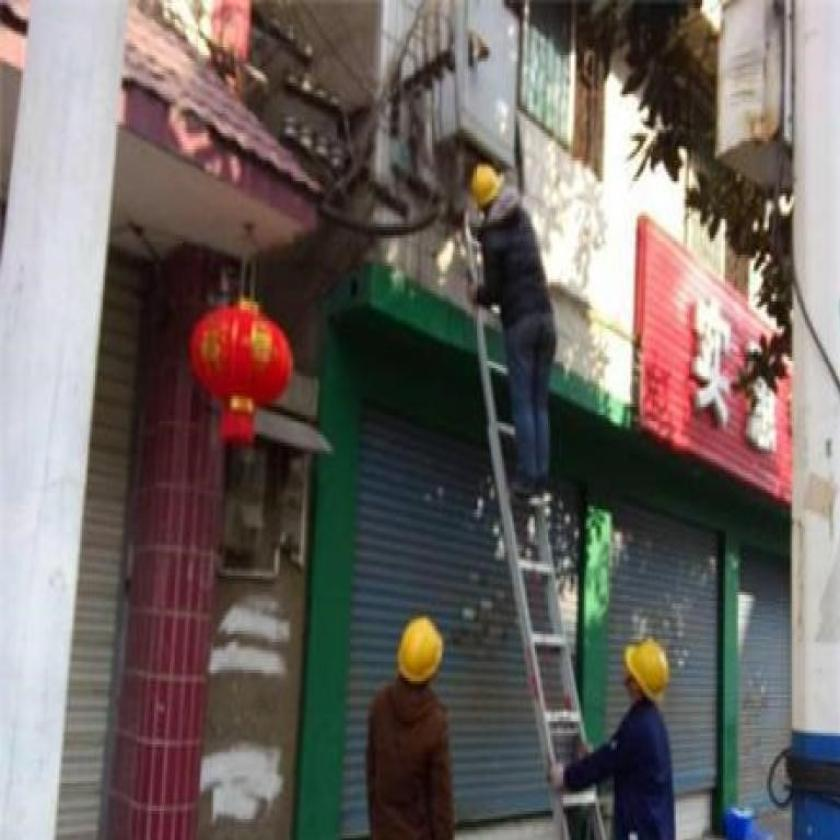Con_casco: (393, 608, 443, 698), (470, 160, 499, 208)
